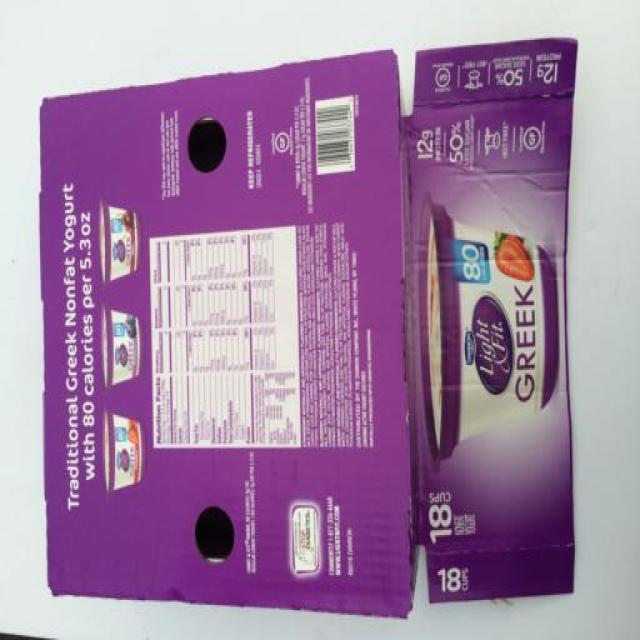cardboard: (38, 38, 576, 618)
